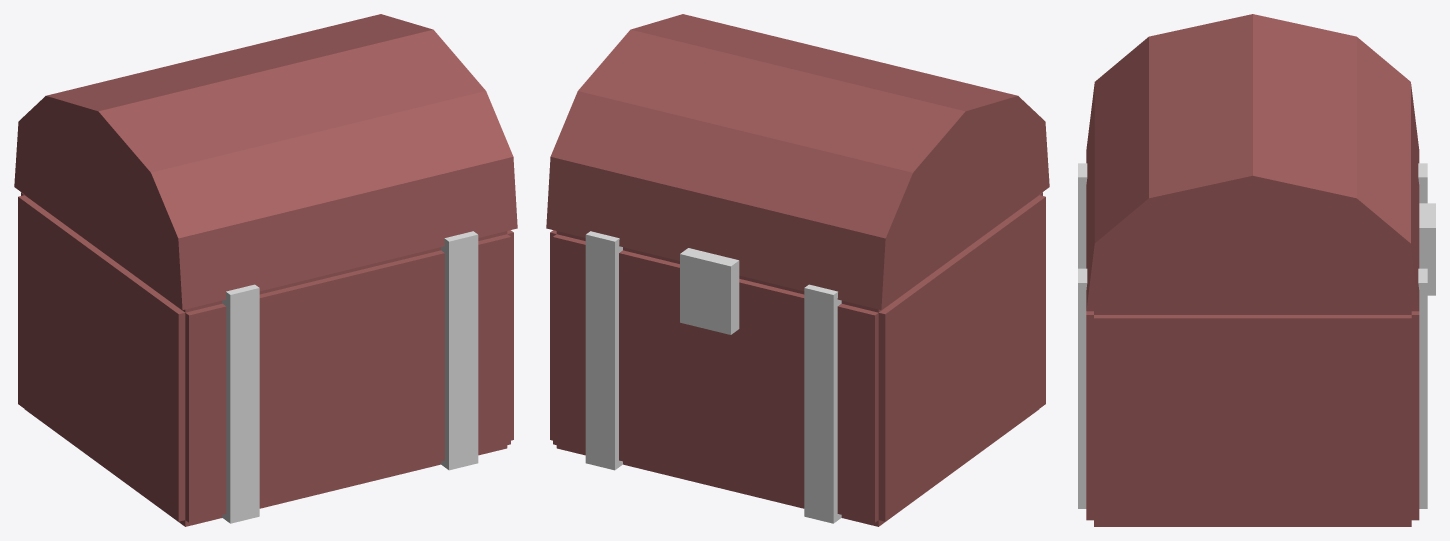
File: shadewood_chest_v0.glb
3 views of the same model, side by side, from view 1: azimuth 30°, elevation 25°; view 2: azimuth 150°, elevation 25°; view 3: azimuth 270°, elevation 25° (orthographic).
Visible parts, largest first — view 1: shadewood_chest_v0; view 2: shadewood_chest_v0; view 3: shadewood_chest_v0.
Part boxes in pixels (x1,y1,x2,y2): shadewood_chest_v0: (14,14,517,526); shadewood_chest_v0: (546,14,1049,526); shadewood_chest_v0: (1078,14,1435,526).
Size of the model in its own units: 0.92 by 0.94 by 0.86.
